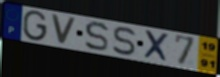7: (174, 33, 197, 67)
G: (21, 10, 49, 43)
S: (111, 26, 138, 57), (84, 21, 110, 53)
V: (49, 13, 78, 47)
X: (143, 29, 171, 64)
